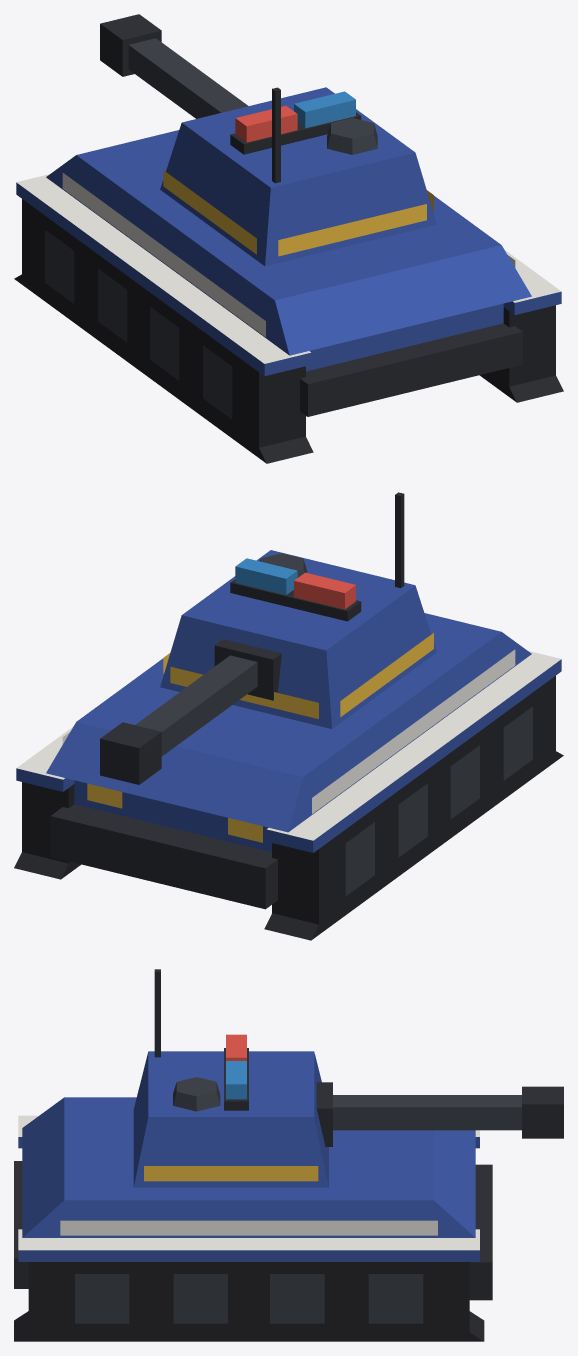
File: V_PoliceTank.fbx
3 views of the same model, one above another, from view 1: azimuth 30°, elevation 25°; view 2: azimuth 150°, elevation 25°; view 3: azimuth 270°, elevation 25° (orthographic). The views are drawn at different scales.
Parts seen in each view (by area): view 1: V_PoliceTank; view 2: V_PoliceTank; view 3: V_PoliceTank.
Boxes of the visible parts, bbox=[...] form: V_PoliceTank: bbox=[14, 14, 563, 463]; V_PoliceTank: bbox=[14, 492, 563, 940]; V_PoliceTank: bbox=[14, 969, 563, 1341].
Size of the model in its own units: 1.77 by 1.67 by 3.01.
